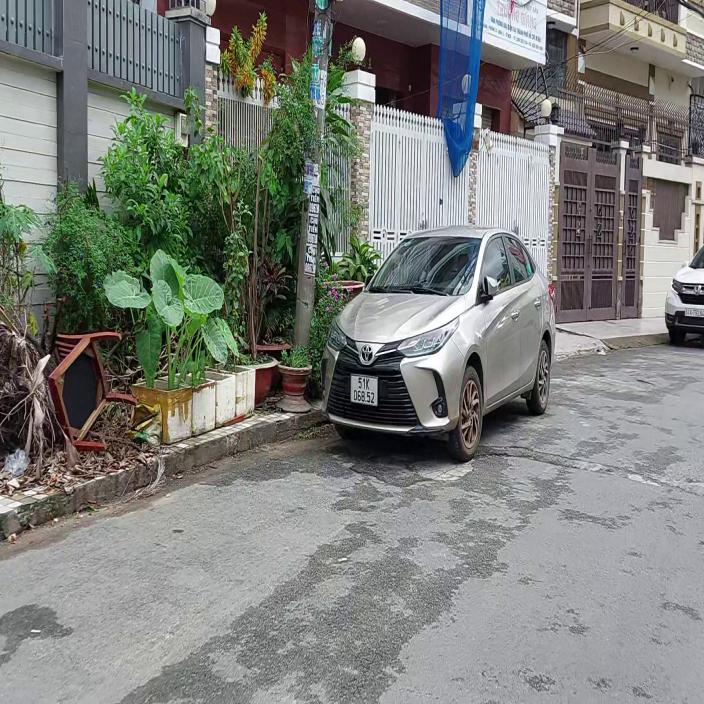numplate: (348, 363, 382, 416)
